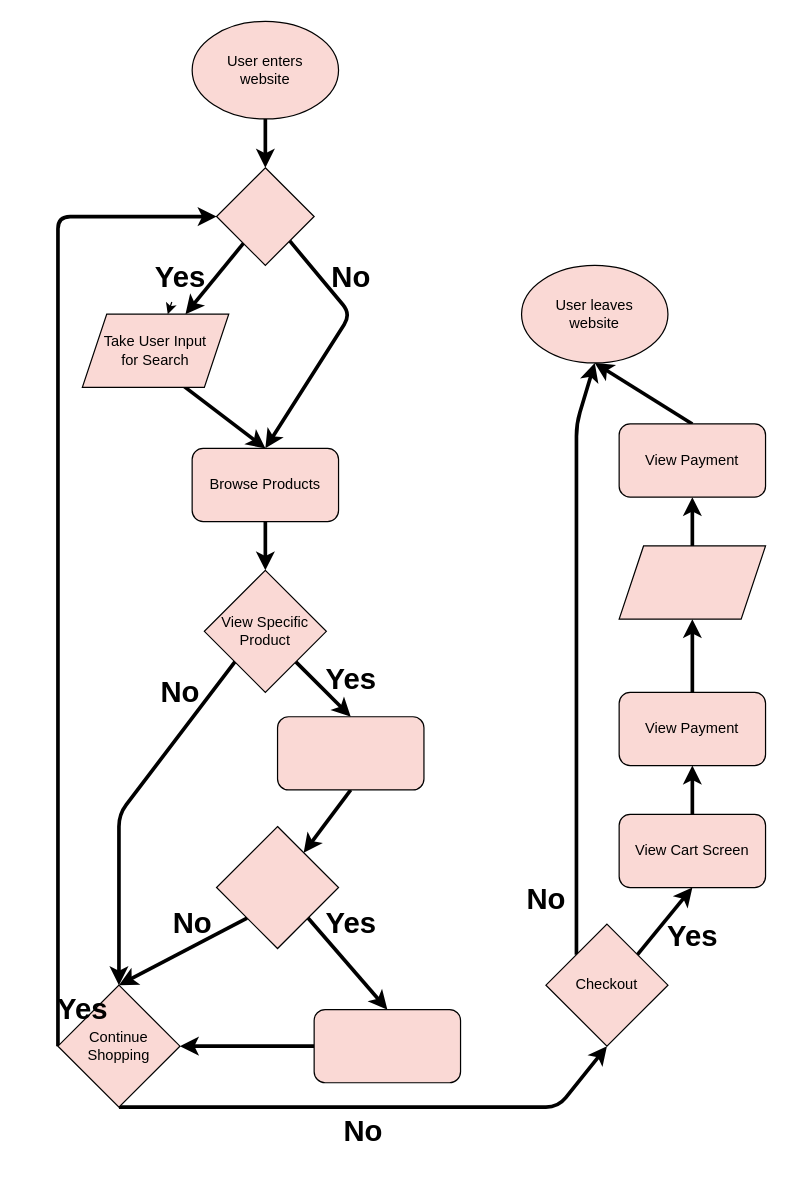
This 787x1177 diagram has some shape labels left out. The shapes that lost their labels are listed below. From the top down, each one's centre as x and y in pixels, then its label:
At pixel 264 216: "Search for Product".
At pixel 692 582: "Take User payment information".
At pixel 350 753: "Product Page".
At pixel 277 887: "Add to Cart".
At pixel 387 1045: "Cart Confirmation".
